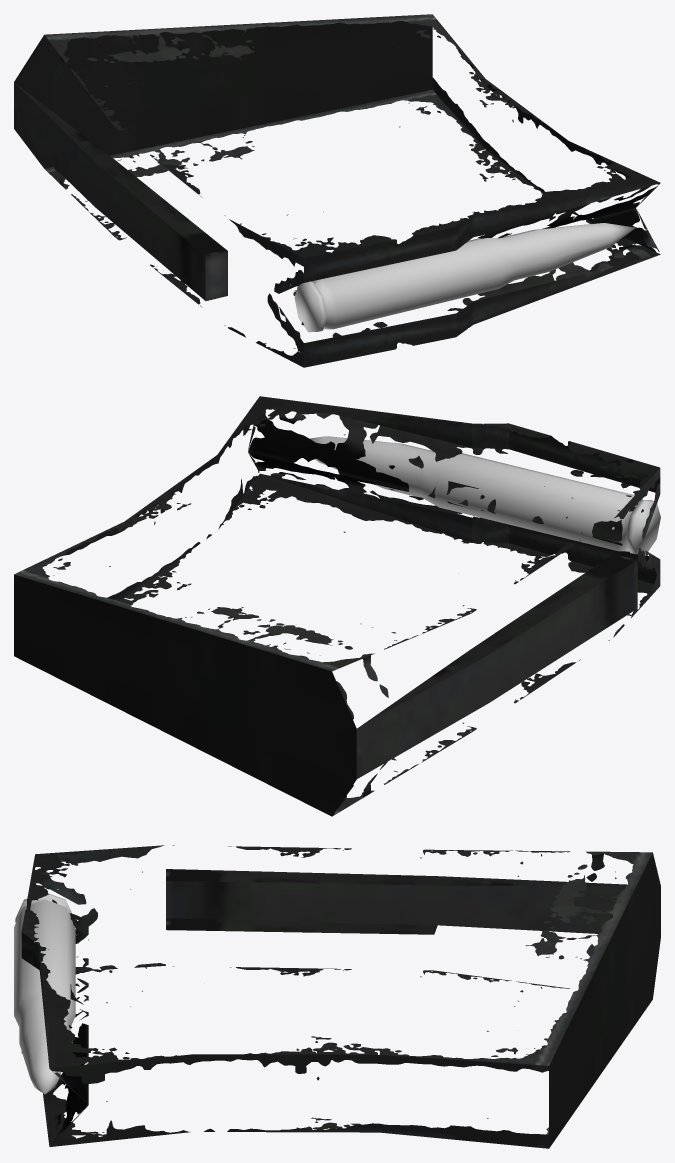
Rendered from t6_attach_mag_svu_view_LOD0.obj.
The picture shows the model from 3 angles, top to bottom: view 1: azimuth 30°, elevation 25°; view 2: azimuth 150°, elevation 25°; view 3: azimuth 270°, elevation 25°; orthographic projection. The views are drawn at different scales.
Visible parts, largest first — view 1: mtl_t6_wpn_sniper_svu, mtl_t6_attach_bullet, mtl_t6_wpn_sniper_svu_camo3; view 2: mtl_t6_wpn_sniper_svu, mtl_t6_wpn_sniper_svu_camo3, mtl_t6_attach_bullet; view 3: mtl_t6_wpn_sniper_svu, mtl_t6_wpn_sniper_svu_camo3, mtl_t6_attach_bullet.
Part boxes in pixels (x1,y1,x2,y2): mtl_t6_wpn_sniper_svu: (14,14,660,367); mtl_t6_attach_bullet: (294,223,635,332); mtl_t6_wpn_sniper_svu_camo3: (14,82,227,300); mtl_t6_wpn_sniper_svu: (14,396,660,816); mtl_t6_wpn_sniper_svu_camo3: (356,554,637,778); mtl_t6_attach_bullet: (310,436,660,554); mtl_t6_wpn_sniper_svu: (21,845,660,1148); mtl_t6_wpn_sniper_svu_camo3: (166,869,627,934); mtl_t6_attach_bullet: (14,893,75,1094).
Size of the model in its own units: 11.21 by 3.57 by 14.23.
